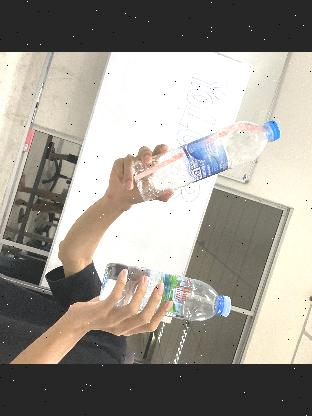Plastic Bottle: (131, 122, 281, 200), (99, 262, 231, 322)
